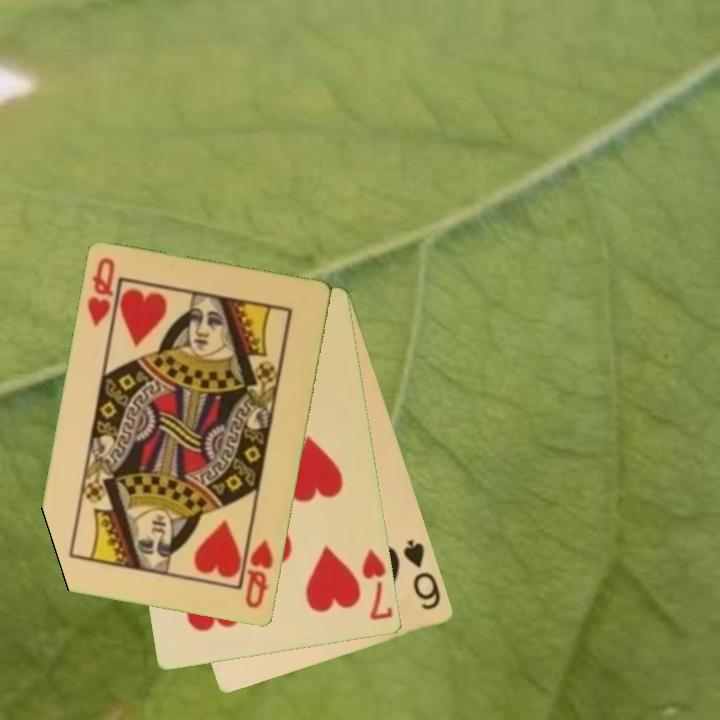6s: (400, 536, 444, 614)
7h: (359, 545, 396, 623)
Qh: (84, 254, 122, 331), (242, 536, 277, 612)
